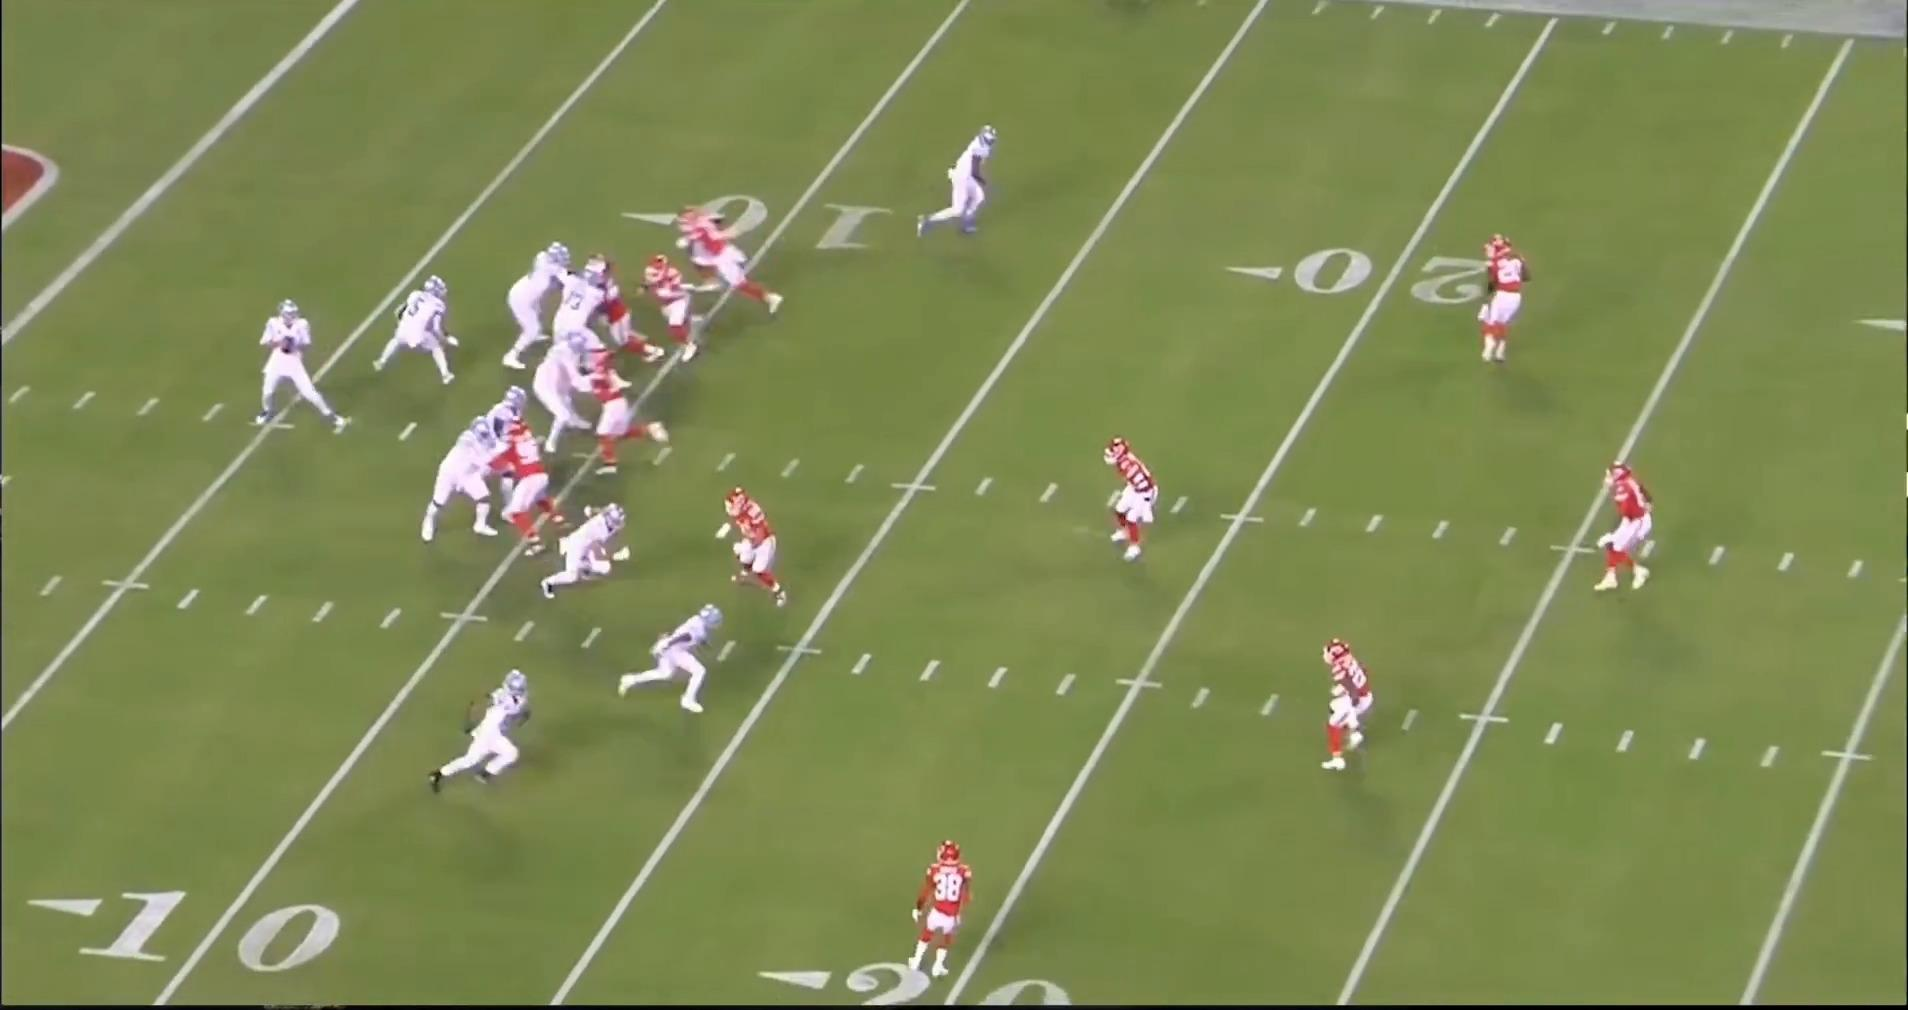player: (424, 663, 541, 796), (621, 598, 738, 717), (248, 300, 348, 439), (676, 205, 784, 316), (418, 420, 504, 552), (371, 274, 466, 393), (911, 833, 985, 984), (583, 349, 672, 471), (922, 122, 1011, 243), (505, 235, 582, 373), (1591, 458, 1662, 601), (719, 483, 795, 611), (533, 503, 626, 606), (576, 248, 662, 359), (497, 421, 563, 558), (1310, 630, 1371, 775), (640, 249, 714, 364), (1100, 436, 1163, 571), (1466, 231, 1523, 367), (531, 322, 588, 456), (548, 263, 606, 348), (485, 385, 529, 437)
